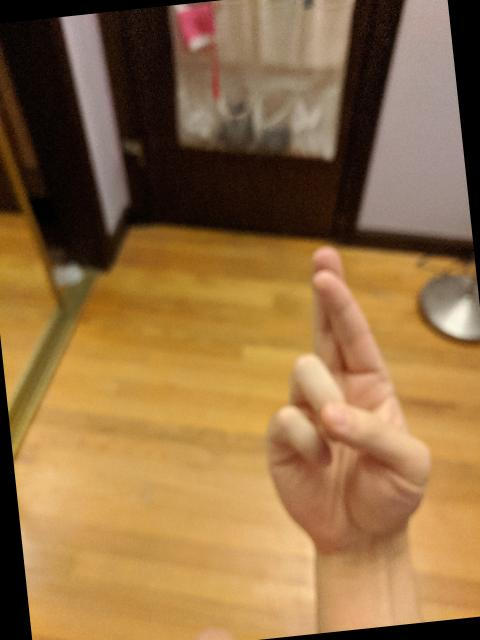R: (235, 228, 446, 556)
